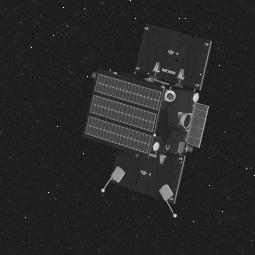proba_2: (85, 22, 214, 222)
